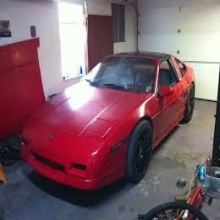no damage: (19, 51, 199, 189)
